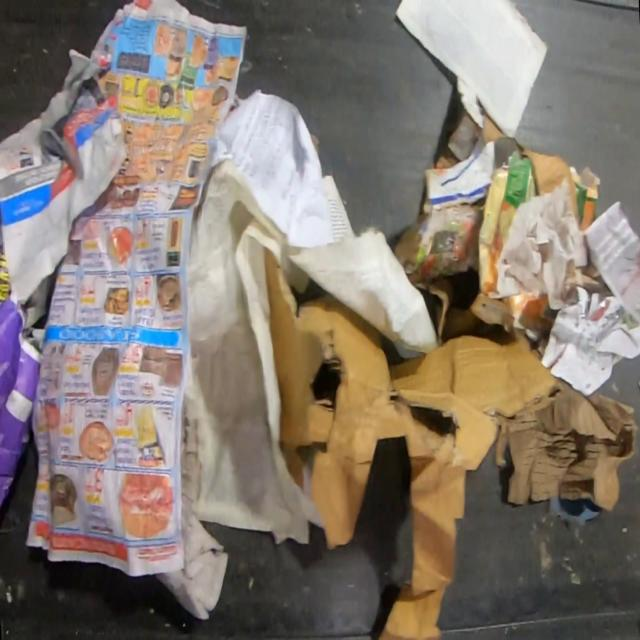cardboard: (263, 247, 564, 638), (496, 384, 635, 511), (496, 135, 572, 202), (568, 164, 602, 231), (482, 111, 507, 148)
